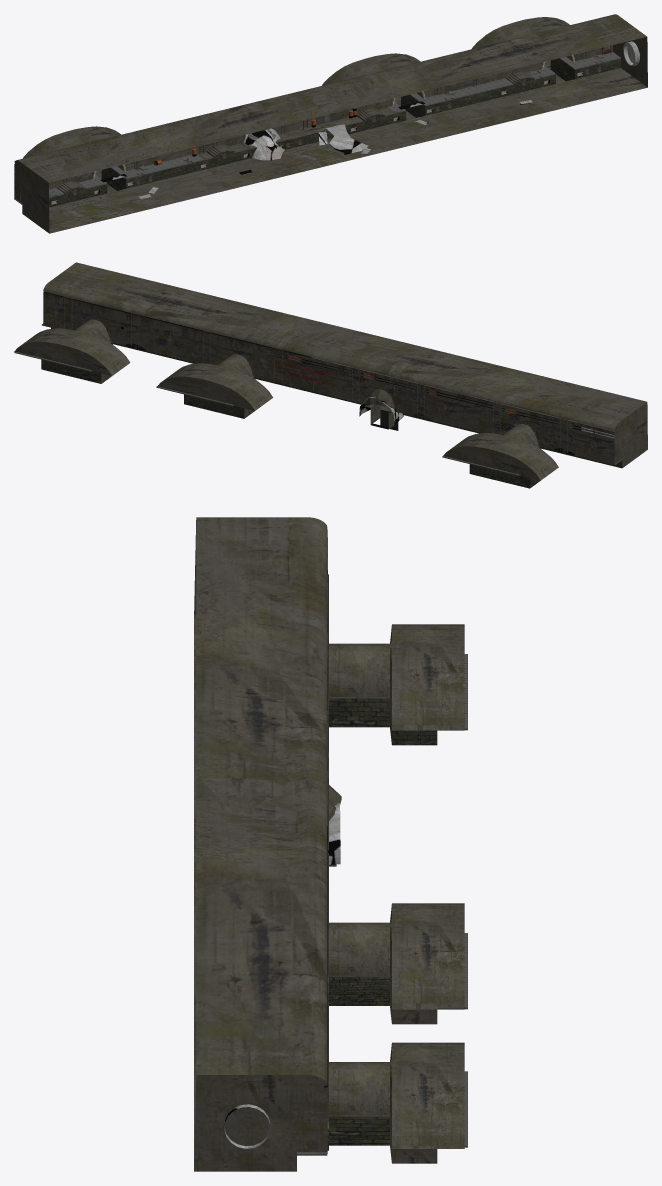
Rendered from ScenseCanalizaci9(Test).FBX.
3 renders of one model, top to bottom at view 1: azimuth 30°, elevation 25°; view 2: azimuth 150°, elevation 25°; view 3: azimuth 270°, elevation 25°, orthographic. The views are drawn at different scales.
Parts seen in each view (by area): view 1: Object01, Object02, LpcationKanalizac, Object06, Object04, Object03, Musor; view 2: Object01, Object02, LpcationKanalizac, Object08, Object09, Object04; view 3: Object01, Object02, LpcationKanalizac, Object04.
Boxes of the visible parts, <box> form: Object01: <box>322,14,647,143</box>; Object02: <box>14,116,228,233</box>; LpcationKanalizac: <box>193,70,419,189</box>; Object06: <box>201,124,370,174</box>; Object04: <box>387,52,620,113</box>; Object03: <box>14,155,203,204</box>; Musor: <box>393,41,639,125</box>; Object01: <box>14,262,292,418</box>; Object02: <box>443,360,647,488</box>; LpcationKanalizac: <box>259,315,475,430</box>; Object08: <box>261,349,445,397</box>; Object09: <box>445,394,614,451</box>; Object04: <box>14,323,253,406</box>; Object01: <box>194,863,464,1171</box>; Object02: <box>194,517,464,781</box>; LpcationKanalizac: <box>194,684,341,959</box>; Object04: <box>297,933,467,1155</box>.
Size of what is drawn, in the model's own units: 431 by 46.99 by 88.96.
